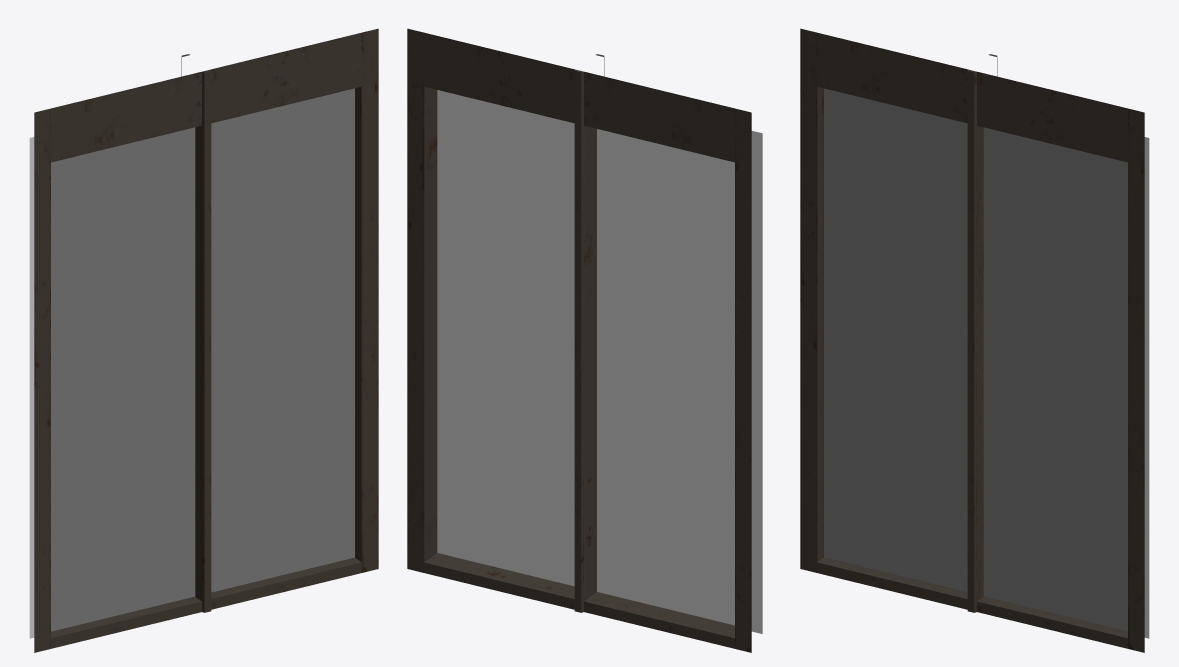
Rendered from downtown-kit.glb.
3 views of the same model, side by side, from view 1: azimuth 30°, elevation 25°; view 2: azimuth 150°, elevation 25°; view 3: azimuth 330°, elevation 25° (orthographic).
Parts seen in each view (by area): view 1: Metal_FullWindow; view 2: Metal_FullWindow; view 3: Metal_FullWindow.
Part boxes in pixels (x1=…): Metal_FullWindow: x1=29, y1=28, x2=378, y2=652; Metal_FullWindow: x1=407, y1=28, x2=762, y2=652; Metal_FullWindow: x1=800, y1=28, x2=1149, y2=652.
Size of the model in its own units: 2 by 3 by 0.2311.
3 materials, 1 textured.
